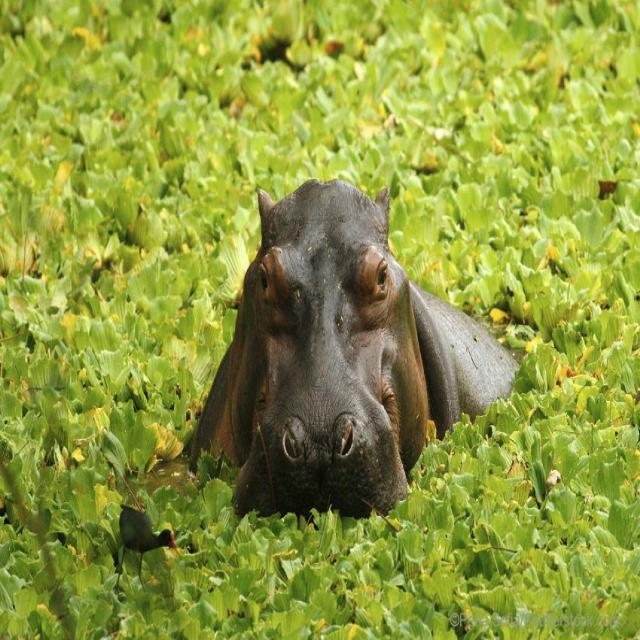hippopotamus: (189, 179, 517, 517)
